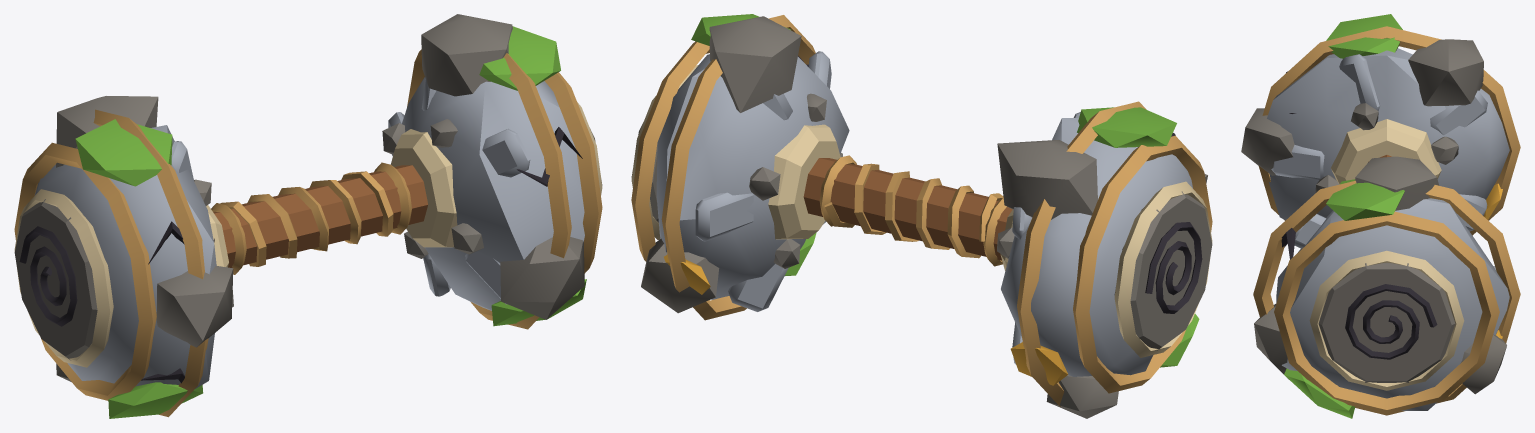
Rendered from db_02_stone.glb.
The picture shows the model from 3 angles, left to right: view 1: azimuth 30°, elevation 25°; view 2: azimuth 150°, elevation 25°; view 3: azimuth 270°, elevation 25°; orthographic projection. The views are drawn at different scales.
Visible parts, largest first — view 1: db_02_stone; view 2: db_02_stone; view 3: db_02_stone.
Part boxes in pixels (bbox=[...]): db_02_stone: bbox=[14, 14, 602, 418]; db_02_stone: bbox=[631, 14, 1212, 418]; db_02_stone: bbox=[1241, 14, 1520, 418].
Size of the model in its own units: 2.9 by 1.61 by 1.61.
